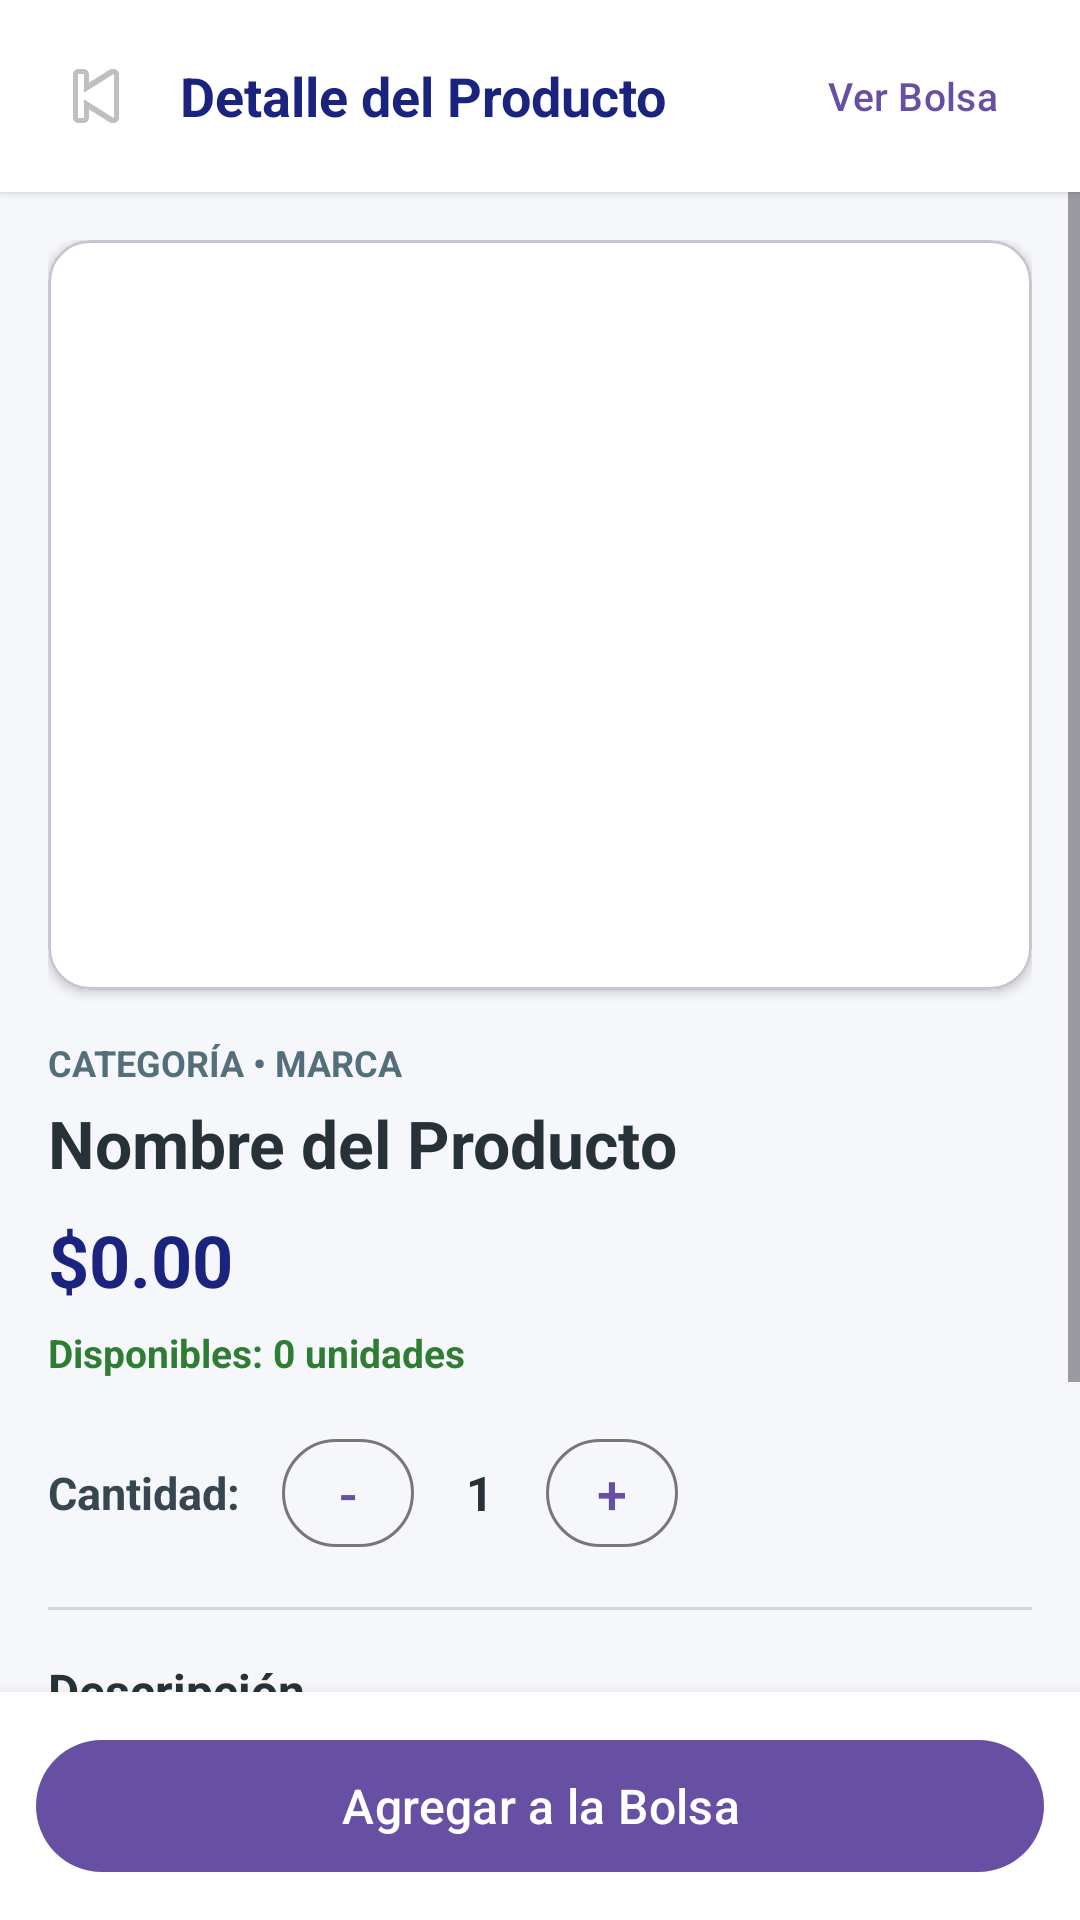

Icon click points for this 1080x1920 phone screenshot, format [x,y]:
Regresar: [96,96]
